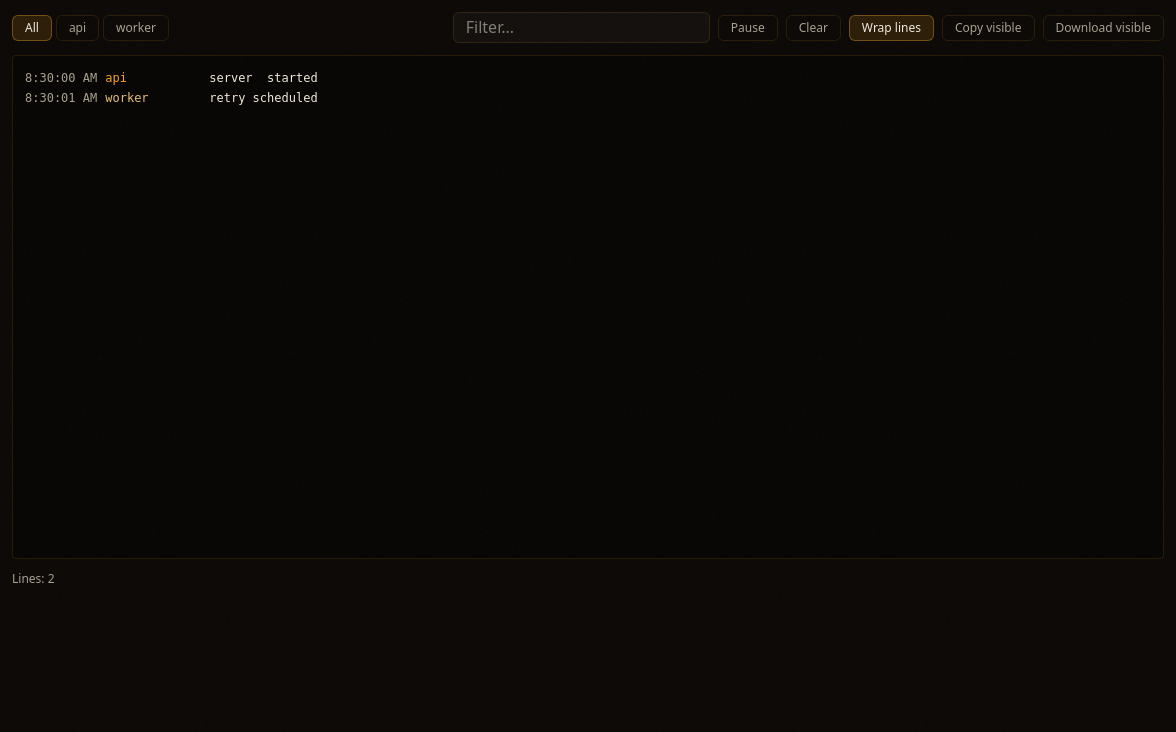
StackLogsPage › copies and downloads only visible lines and toggles wrapping
Click the button "Wrap lines". click: (891,28)
box: x1=849 y1=15 x2=934 y2=41
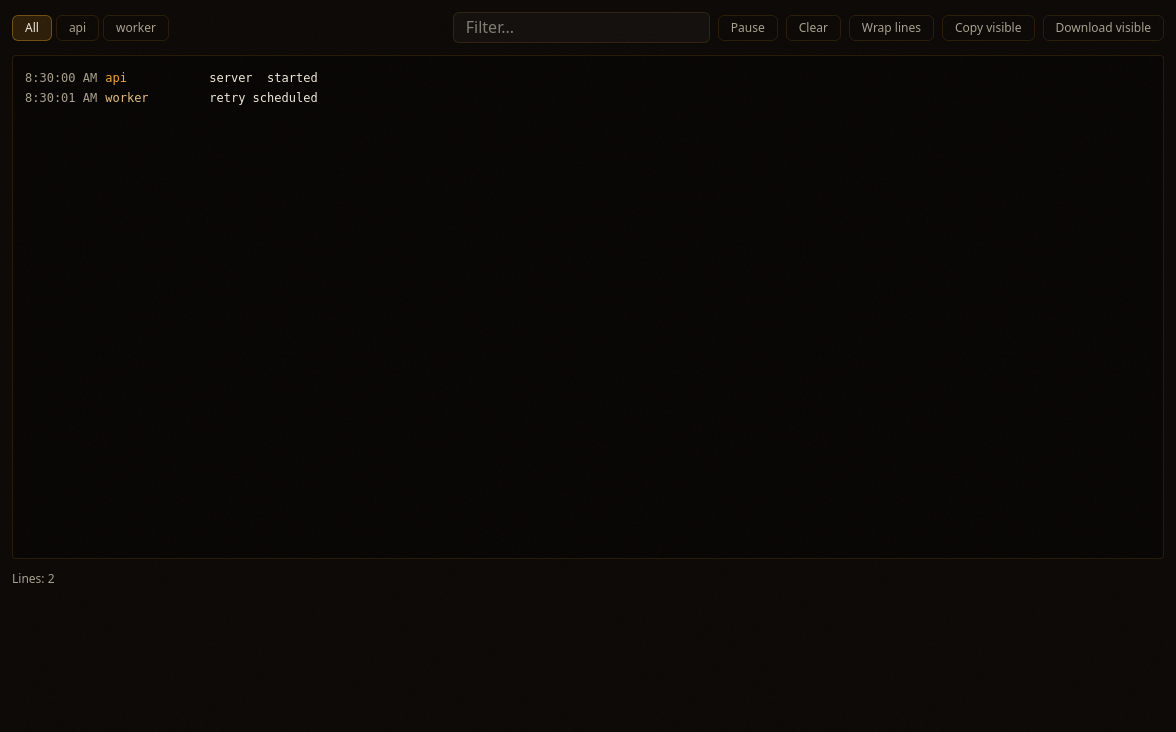
Check: the button "Wrap lines" is not pressed, box x1=849 y1=15 x2=934 y2=41
Type "server" into the field with placeholder "Filter...". click: (581,28)
box: x1=453 y1=12 x2=710 y2=43
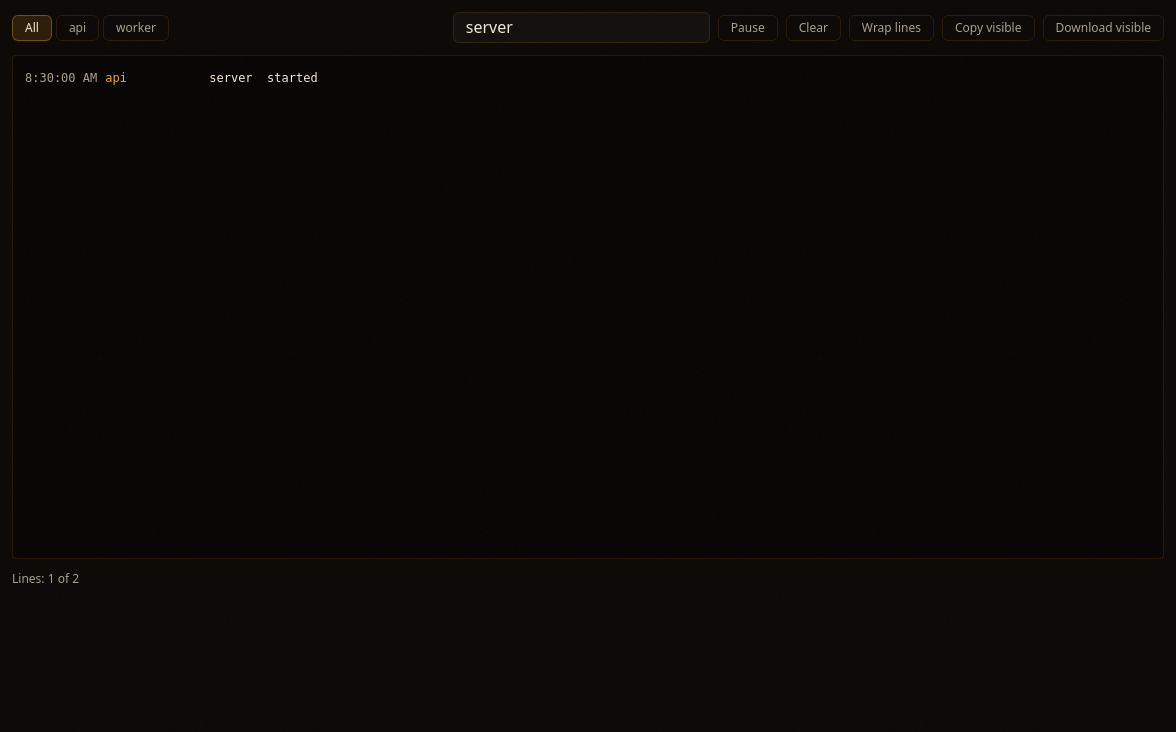
Check: the text "Lines: 1 of 2" is shown, box x1=12 y1=571 x2=79 y2=587
Click the button "Copy visible". click: (988,28)
box: x1=942 y1=15 x2=1034 y2=41
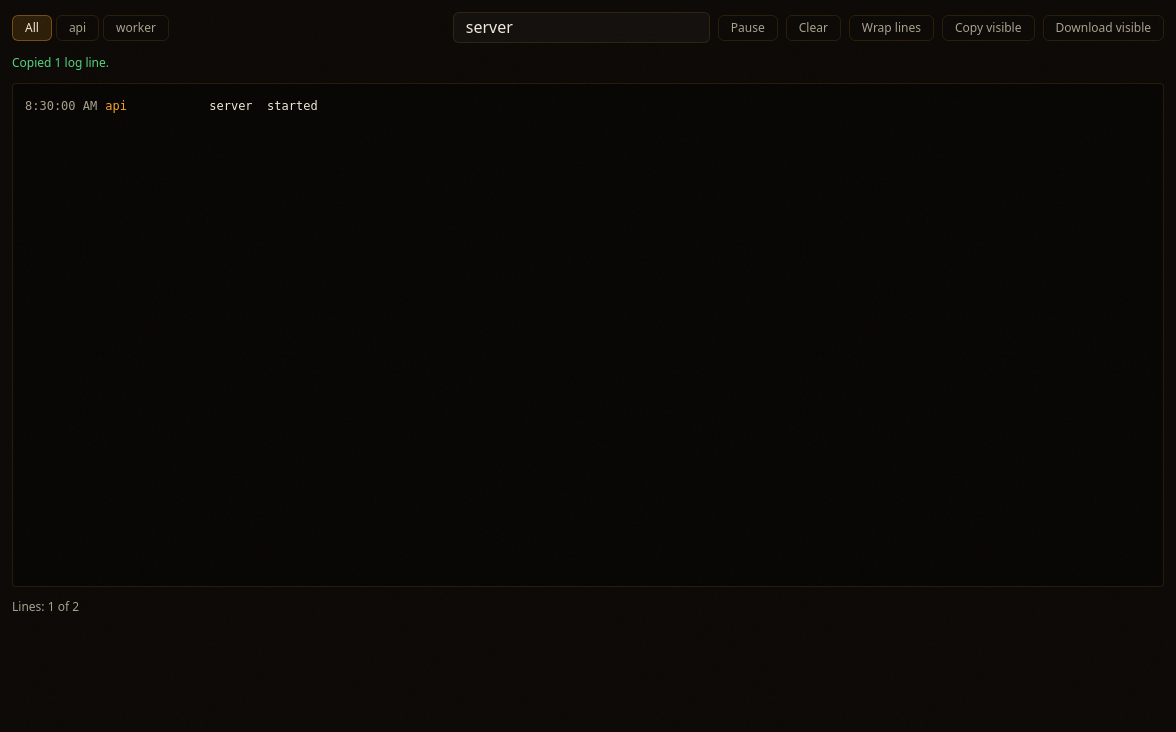
Check: the message reads "Copied 1 log line.", box x1=12 y1=54 x2=109 y2=71
Click the button "Download visible". click: (1103,28)
box: x1=1042 y1=15 x2=1164 y2=41
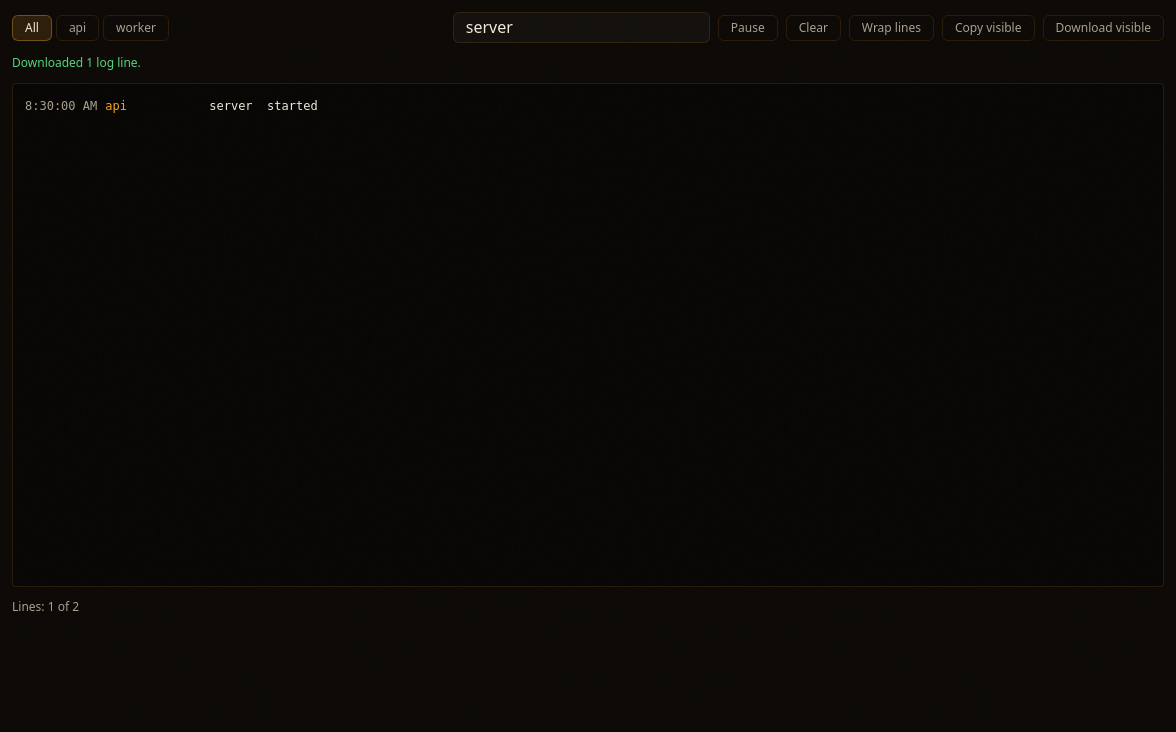
Check: the message reads "Downloaded 1 log line.", box x1=12 y1=54 x2=141 y2=71
